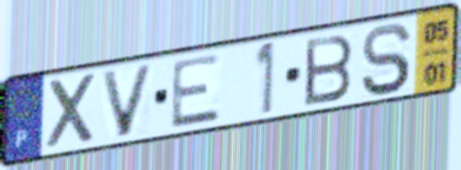1: (252, 38, 278, 119)
B: (302, 31, 356, 109)
E: (168, 50, 224, 131)
S: (358, 21, 415, 99)
V: (98, 61, 158, 141)
X: (45, 69, 100, 153)
